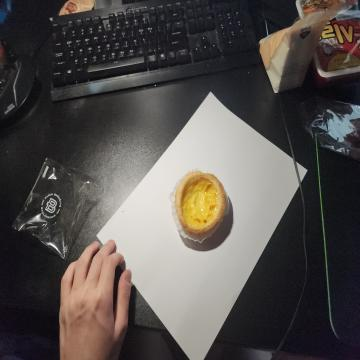EggTart: (174, 168, 226, 236)
